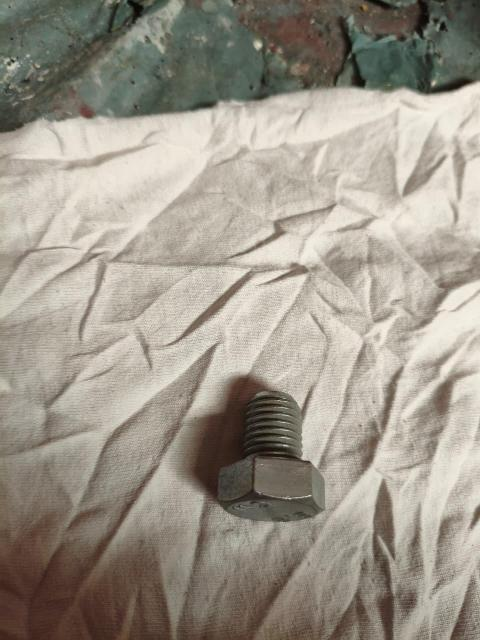Metal: (218, 380, 333, 515)
